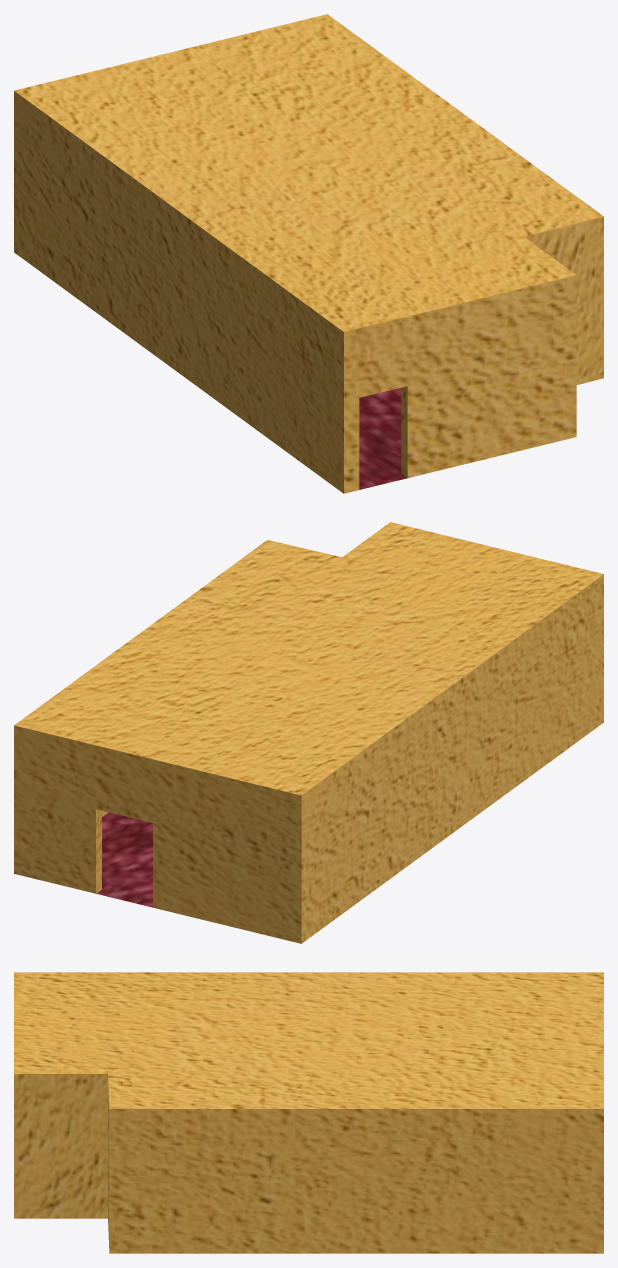
The model's file is ROOM1_3D.fbx.
The picture shows the model from 3 angles, top to bottom: view 1: azimuth 30°, elevation 25°; view 2: azimuth 150°, elevation 25°; view 3: azimuth 270°, elevation 25°; orthographic projection. The views are drawn at different scales.
Parts seen in each view (by area): view 1: pPlane4; view 2: pPlane4; view 3: pPlane4.
Part boxes in pixels (x1,y1,x2,y2): pPlane4: [14, 14, 603, 493]; pPlane4: [14, 522, 603, 943]; pPlane4: [14, 972, 603, 1253].
Bounding box in the file's own units: 42.52 × 20.97 × 77.49.
